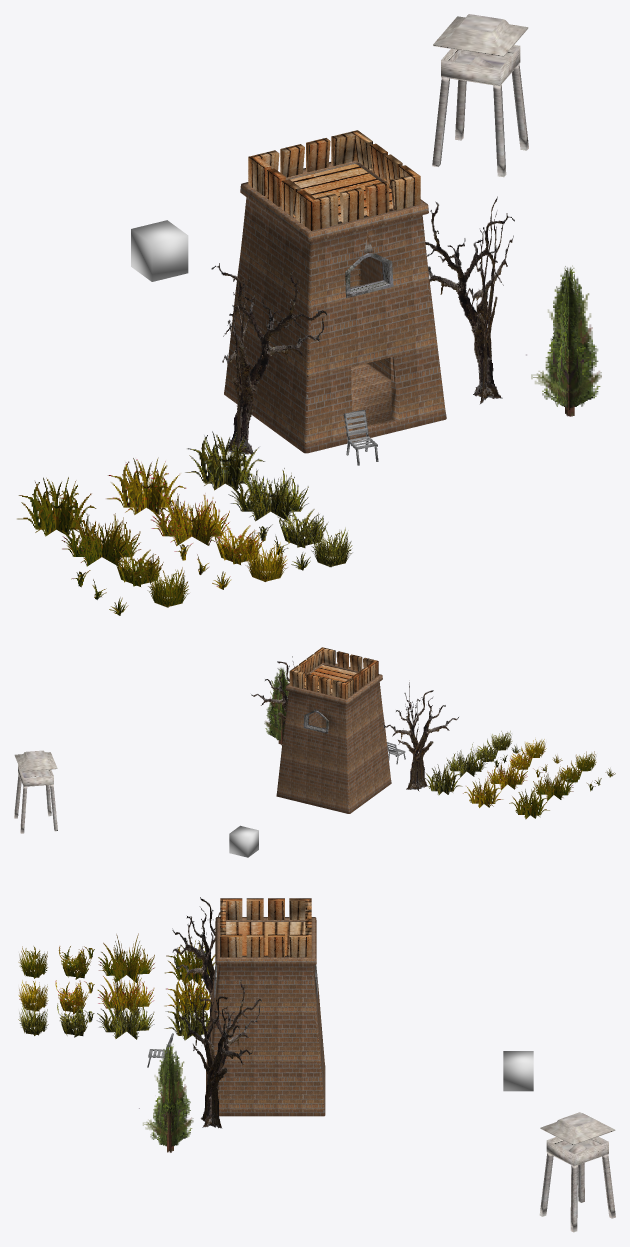
The model's file is first export.glb.
The picture shows the model from 3 angles, top to bottom: view 1: azimuth 30°, elevation 25°; view 2: azimuth 150°, elevation 25°; view 3: azimuth 270°, elevation 25°; orthographic projection. The views are drawn at different scales.
Parts seen in each view (by area): view 1: Cube.002, Cube.001, pine tree, Dead Tree.001, Dead Tree, Cube.005, pine tree.005, pine tree.006, pine tree.007, pine tree.008, pine tree.002, pine tree.004 (+7 smaller); view 2: Cube.002, Cube.001, Dead Tree, pine tree, Cube.005, pine tree.005, pine tree.007, pine tree.006, pine tree.002, pine tree.008, pine tree.004, Dead Tree.001 (+6 smaller); view 3: Cube.002, Cube.001, Dead Tree.001, pine tree, Dead Tree, pine tree.005, pine tree.007, Cube.005, pine tree.006, pine tree.008, pine tree.004, pine tree.002 (+6 smaller).
Part boxes in pixels (<box>): Cube.002: <box>224,130,446,453</box>; Cube.001: <box>432,14,528,177</box>; pine tree: <box>526,265,601,416</box>; Dead Tree.001: <box>425,196,514,403</box>; Dead Tree: <box>211,263,326,454</box>; Cube.005: <box>131,220,188,281</box>; pine tree.005: <box>61,511,141,566</box>; pine tree.006: <box>150,490,230,546</box>; pine tree.007: <box>228,467,308,521</box>; pine tree.008: <box>185,431,265,490</box>; pine tree.002: <box>17,477,96,536</box>; pine tree.004: <box>106,457,186,514</box>; Cube.002: <box>276,647,391,813</box>; Cube.001: <box>14,750,57,833</box>; Dead Tree: <box>382,682,458,791</box>; pine tree: <box>264,667,288,745</box>; Cube.005: <box>229,825,258,857</box>; pine tree.005: <box>533,766,573,800</box>; pine tree.007: <box>446,742,487,777</box>; pine tree.006: <box>487,755,527,790</box>; pine tree.002: <box>509,787,549,819</box>; pine tree.008: <box>424,764,462,795</box>; pine tree.004: <box>463,778,503,807</box>; Dead Tree.001: <box>251,656,294,721</box>; Cube.002: <box>206,898,325,1116</box>; Cube.001: <box>539,1112,615,1232</box>; Dead Tree.001: <box>178,979,261,1128</box>; pine tree: <box>139,1043,193,1152</box>; Dead Tree: <box>172,897,220,1030</box>; pine tree.005: <box>98,933,154,982</box>; pine tree.007: <box>96,991,154,1039</box>; Cube.005: <box>503,1051,533,1091</box>; pine tree.006: <box>97,966,154,1014</box>; pine tree.008: <box>164,996,209,1040</box>; pine tree.004: <box>164,973,211,1016</box>; pine tree.002: <box>165,940,215,984</box>.
Size of what is drawn, in the model's own units: 24.27 by 7.19 by 22.07.
Materials: 9 (9 with a texture image).
